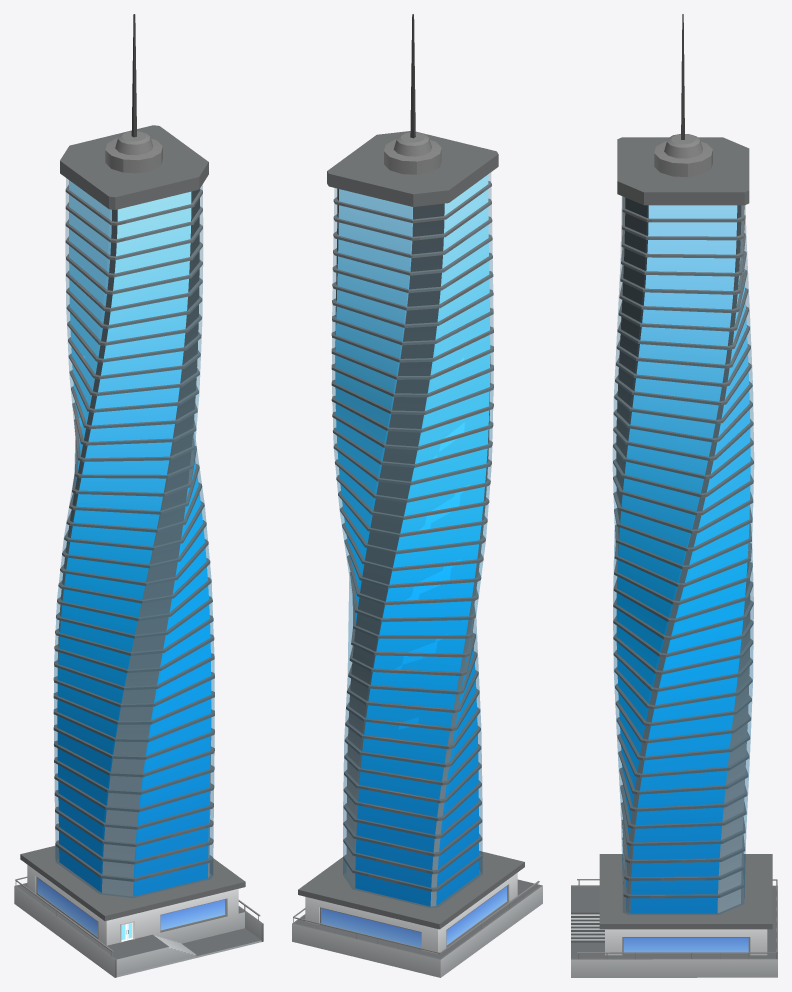
Rendered from city2-building-skyscraper-04.glb.
3 renders of one model, left to right at view 1: azimuth 30°, elevation 25°; view 2: azimuth 150°, elevation 25°; view 3: azimuth 270°, elevation 25°, orthographic. The views are drawn at different scales.
Parts seen in each view (by area): view 1: Building_Skyscraper_04; view 2: Building_Skyscraper_04; view 3: Building_Skyscraper_04.
Boxes of the visible parts, box(x1,y1,x2,y2) form: Building_Skyscraper_04: box(14, 14, 263, 977); Building_Skyscraper_04: box(292, 14, 542, 977); Building_Skyscraper_04: box(571, 14, 777, 977).
Size of the model in its own units: 19.34 by 113 by 22.77.
Materials: 2 (2 with a texture image).
